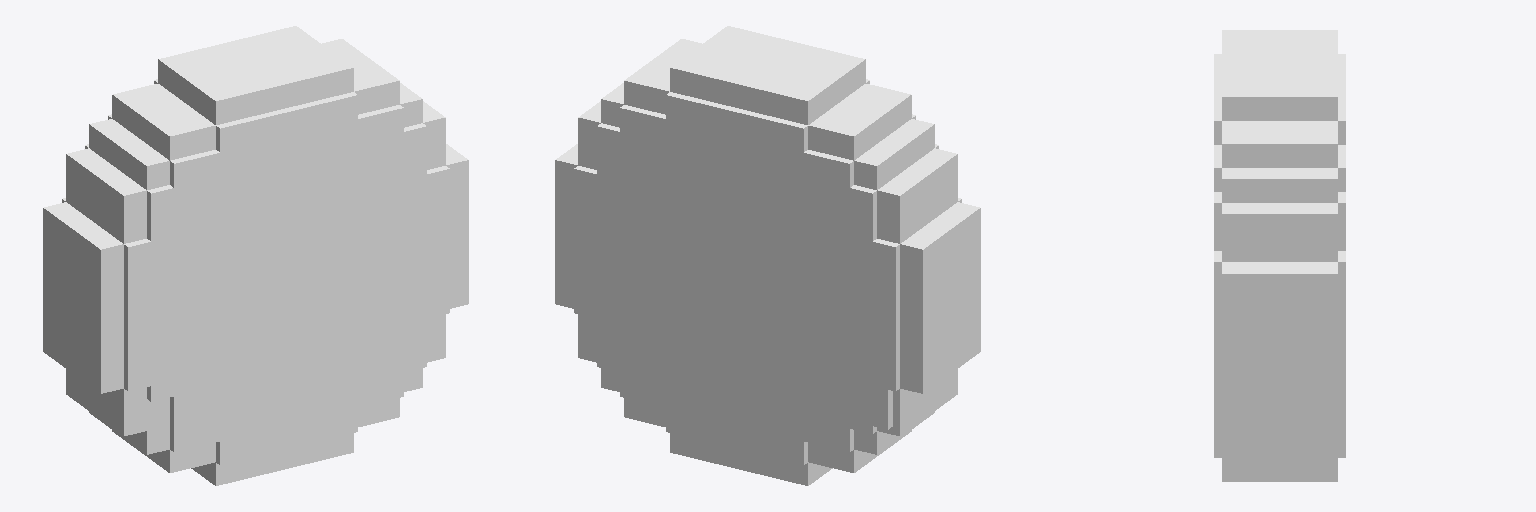
File: moeda.obj
3 renders of one model, left to right at view 1: azimuth 30°, elevation 25°; view 2: azimuth 150°, elevation 25°; view 3: azimuth 270°, elevation 25°, orthographic.
Size of the model in its own units: 48 by 48 by 15.